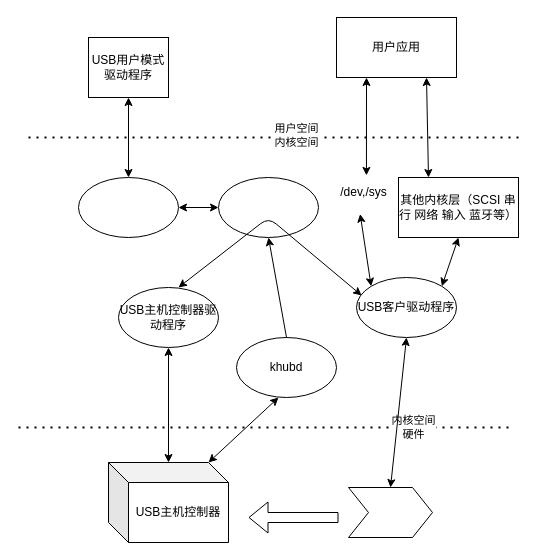
This 537x560 diagram has some shape labels left out. The shapes that lost their labels are listed below. From the top down, each one's centre as x and y in pixels, then its label:
At point (128, 207): "usbfs".
At point (268, 207): "usbcore".
At point (390, 512): "USB设备".
